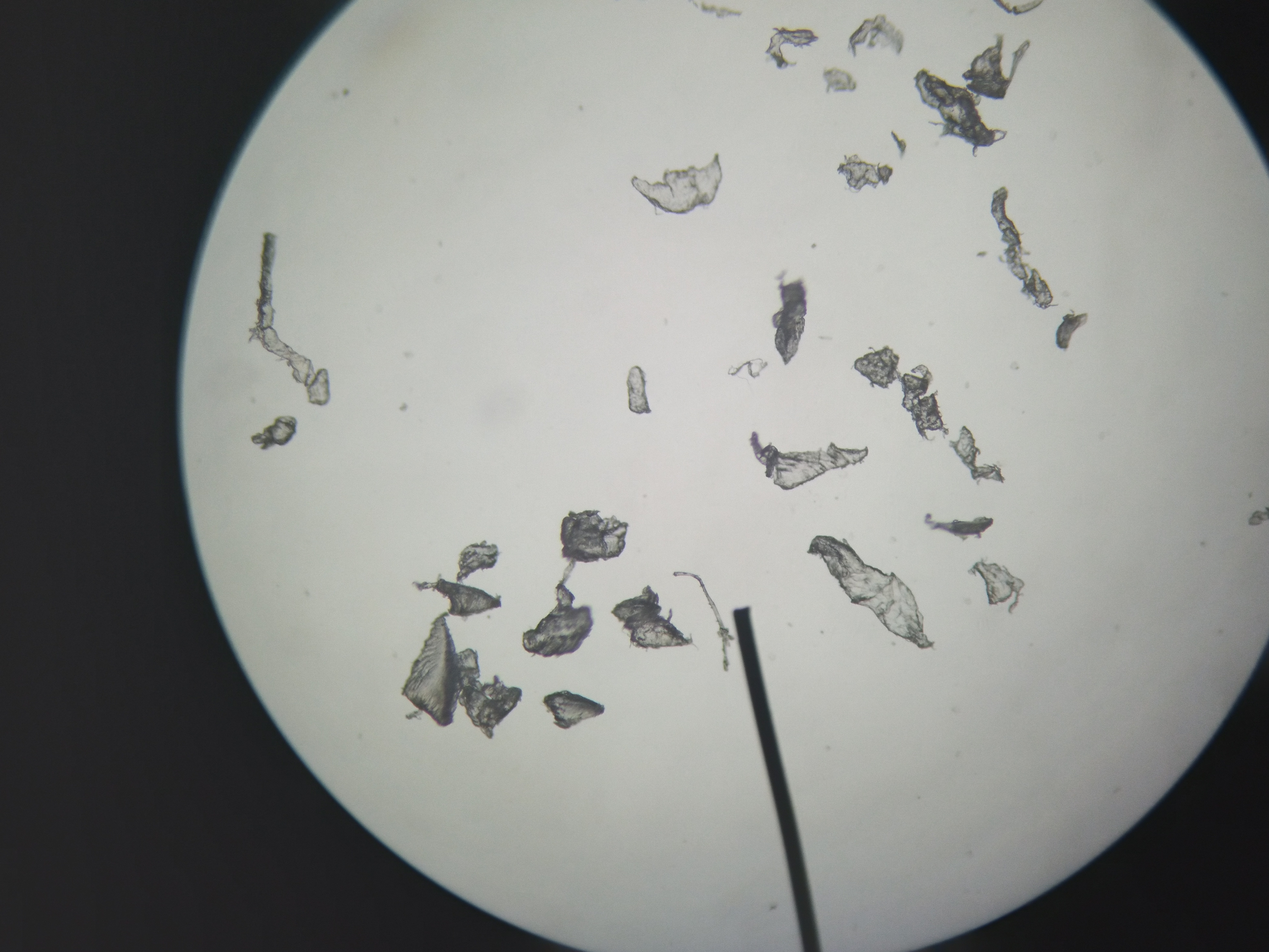microplastic: (403, 614, 525, 748), (806, 533, 938, 656), (256, 232, 340, 419), (908, 67, 1009, 155), (991, 186, 1057, 314), (747, 429, 872, 490), (625, 151, 732, 218), (671, 569, 735, 677), (522, 578, 596, 664), (611, 583, 697, 655), (961, 32, 1033, 103), (558, 509, 638, 567), (413, 579, 512, 622), (898, 364, 950, 443), (243, 412, 321, 461), (540, 687, 616, 735), (968, 557, 1027, 618), (949, 424, 1007, 486), (771, 272, 806, 366), (453, 540, 514, 590), (846, 13, 911, 58), (765, 26, 818, 76), (834, 153, 898, 192), (925, 511, 998, 544), (852, 346, 901, 393), (1055, 312, 1093, 359), (623, 366, 651, 421), (692, 1, 749, 23), (725, 356, 771, 383), (820, 66, 861, 96), (889, 128, 906, 160)
